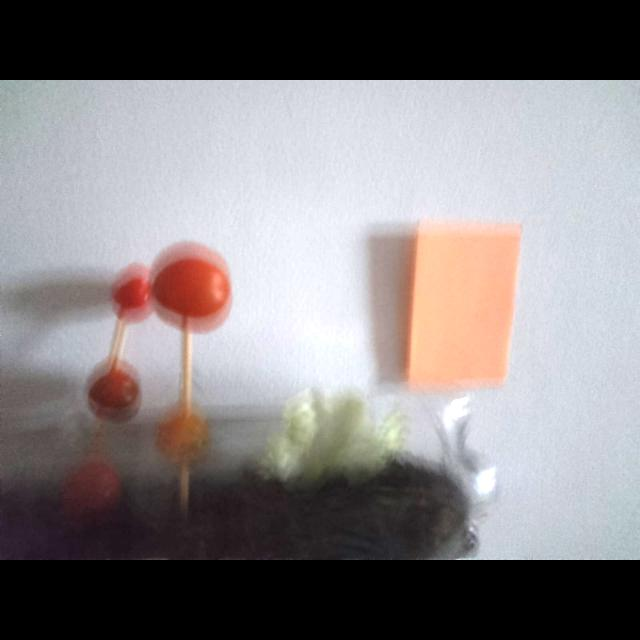card: (405, 224, 520, 387)
fruit_maturation: (156, 411, 209, 463)
fully_grown: (150, 242, 232, 334), (63, 454, 120, 519), (88, 366, 139, 421), (114, 277, 150, 312)
